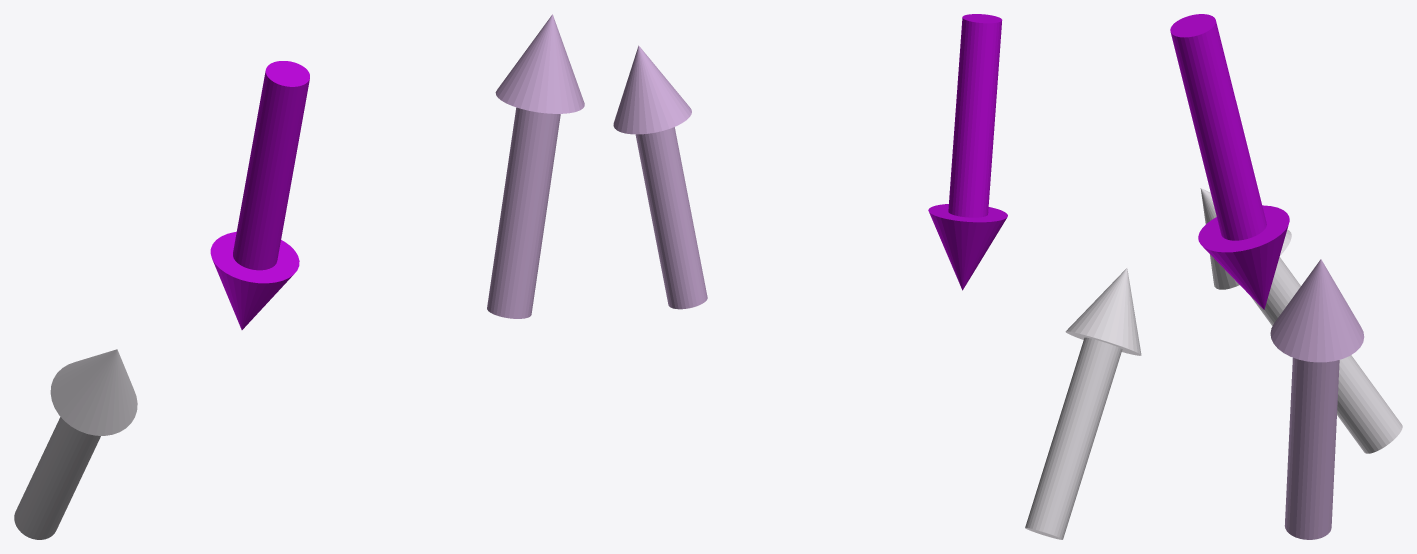
Rendered from opt_res.glb.
3 views of the same model, side by side, from view 1: azimuth 30°, elevation 25°; view 2: azimuth 150°, elevation 25°; view 3: azimuth 270°, elevation 25° (orthographic). The views are drawn at different scales.
Visible parts, largest first — view 1: world; view 2: world; view 3: world.
Boxes of the visible parts, bbox=[...] form: world: bbox=[14, 14, 584, 539]; world: bbox=[613, 14, 1141, 539]; world: bbox=[1170, 14, 1402, 539].
Size of the model in its own units: 0.0568 by 0.0481 by 0.0198.
